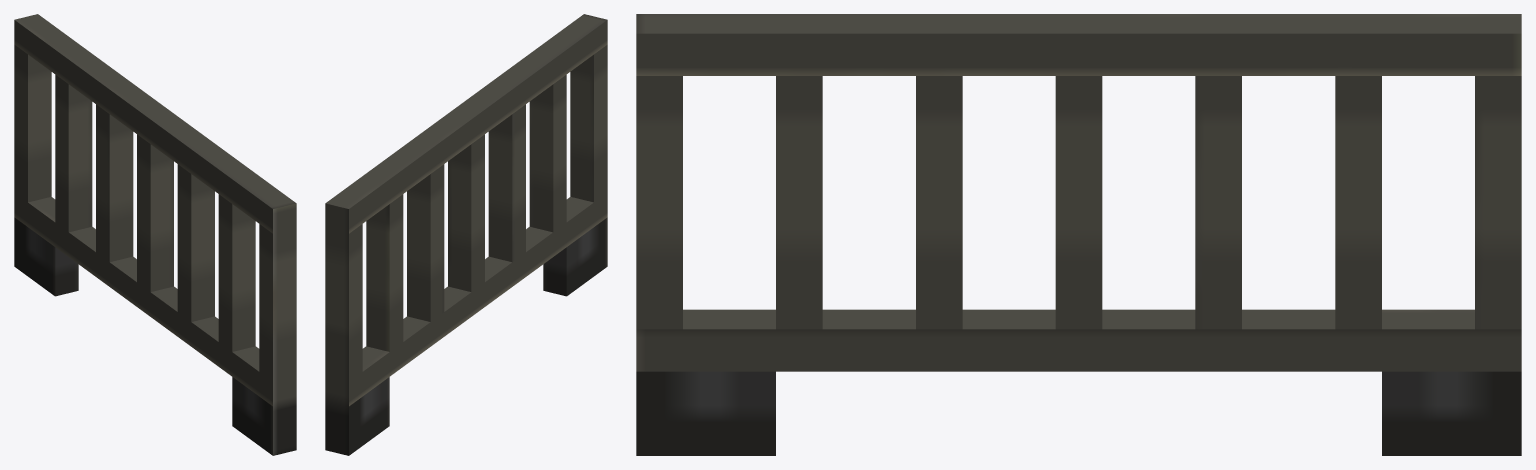
The model's file is RailB.fbx.
3 renders of one model, left to right at view 1: azimuth 30°, elevation 25°; view 2: azimuth 150°, elevation 25°; view 3: azimuth 270°, elevation 25°, orthographic. The views are drawn at different scales.
Parts seen in each view (by area): view 1: RailB; view 2: RailB; view 3: RailB.
Boxes of the visible parts, x1,y1,x2,y2 form: RailB: (14,14,296,455); RailB: (325,14,607,455); RailB: (636,14,1521,455).
Bounding box in the file's own units: 1 × 10 × 19.
